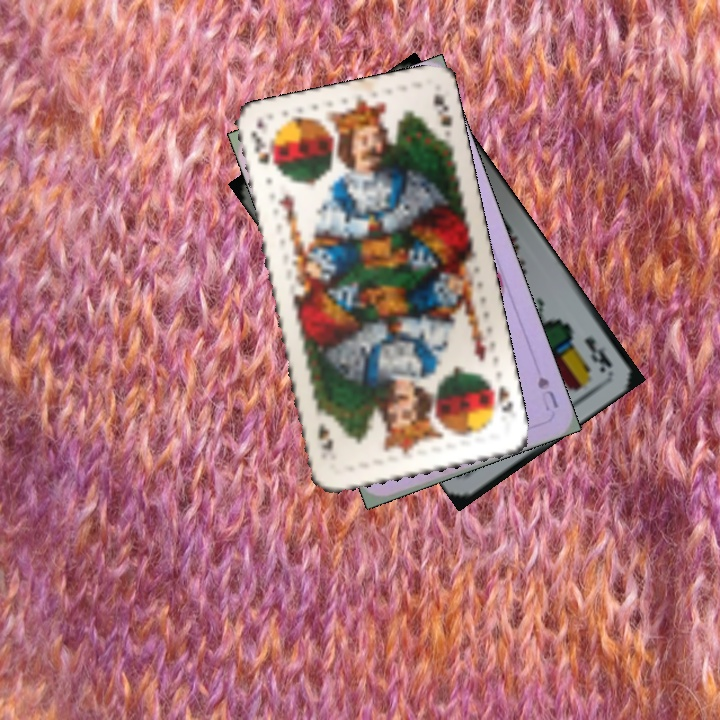EK: (580, 333, 615, 375)
SK: (483, 375, 516, 415), (247, 126, 273, 168)
SU: (533, 372, 561, 413)
